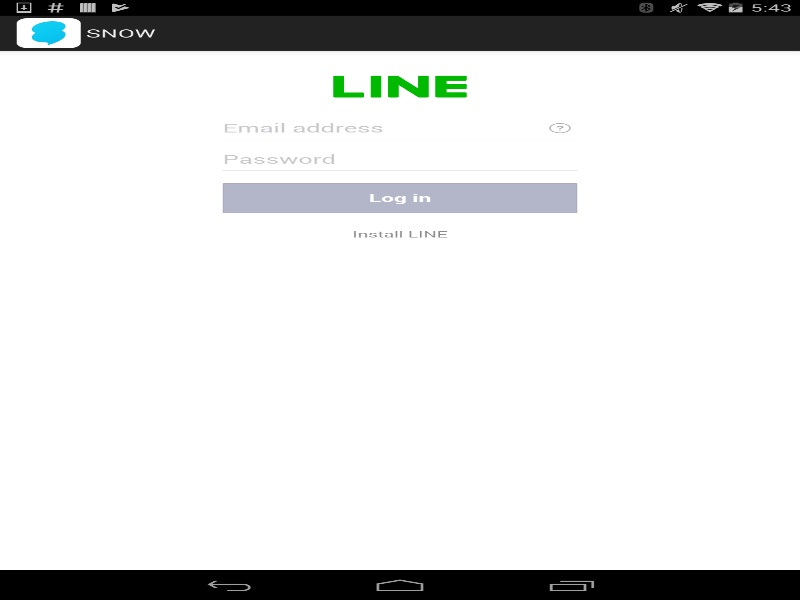Button: (222, 183, 577, 213)
Input: (222, 151, 564, 167), (222, 120, 500, 136)
